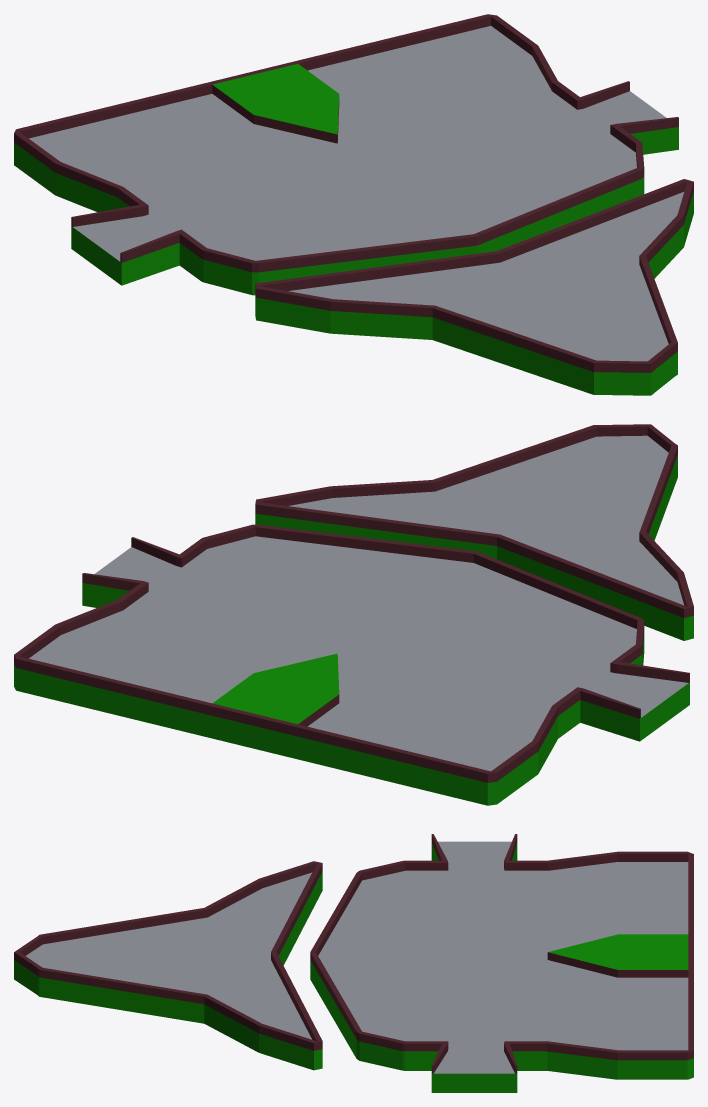
File: TPTreasureRoom.fbx
The picture shows the model from 3 angles, top to bottom: view 1: azimuth 30°, elevation 25°; view 2: azimuth 150°, elevation 25°; view 3: azimuth 270°, elevation 25°; orthographic projection. The views are drawn at different scales.
Visible parts, largest first — view 1: Cube; view 2: Cube; view 3: Cube.
Boxes of the visible parts, <box> form: Cube: <box>14,14,693,395</box>; Cube: <box>14,424,693,805</box>; Cube: <box>14,834,693,1092</box>.
Bounding box in the file's own units: 12792 × 700 × 15863.
